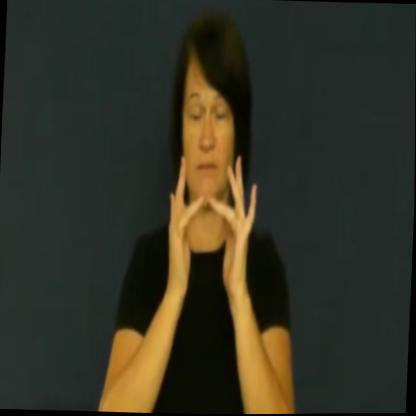Internet: (157, 141, 259, 298)
